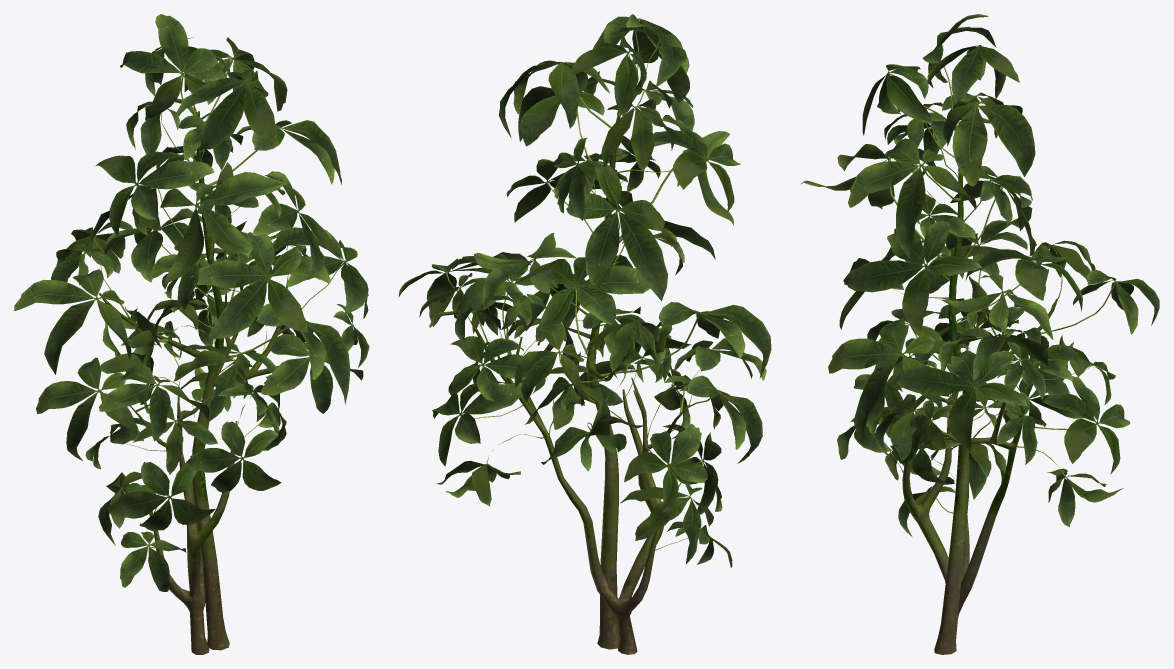
File: pachira_aquatica_01.glb
3 views of the same model, side by side, from view 1: azimuth 30°, elevation 25°; view 2: azimuth 150°, elevation 25°; view 3: azimuth 270°, elevation 25° (orthographic). The views are drawn at different scales.
Parts seen in each view (by area): view 1: pachira_aquatica_01_leaves_d, pachira_aquatica_01_bark_d; view 2: pachira_aquatica_01_leaves_d, pachira_aquatica_01_bark_d; view 3: pachira_aquatica_01_leaves_d, pachira_aquatica_01_bark_d.
Part boxes in pixels (x1,y1,x2,y2): pachira_aquatica_01_leaves_d: [14, 14, 369, 591]; pachira_aquatica_01_bark_d: [99, 111, 287, 654]; pachira_aquatica_01_leaves_d: [398, 14, 771, 567]; pachira_aquatica_01_bark_d: [471, 113, 689, 654]; pachira_aquatica_01_leaves_d: [801, 14, 1159, 536]; pachira_aquatica_01_bark_d: [902, 127, 1057, 654].
Bounding box in the file's own units: 1.05 × 1.9 × 0.997.
2 materials, 2 textured.
